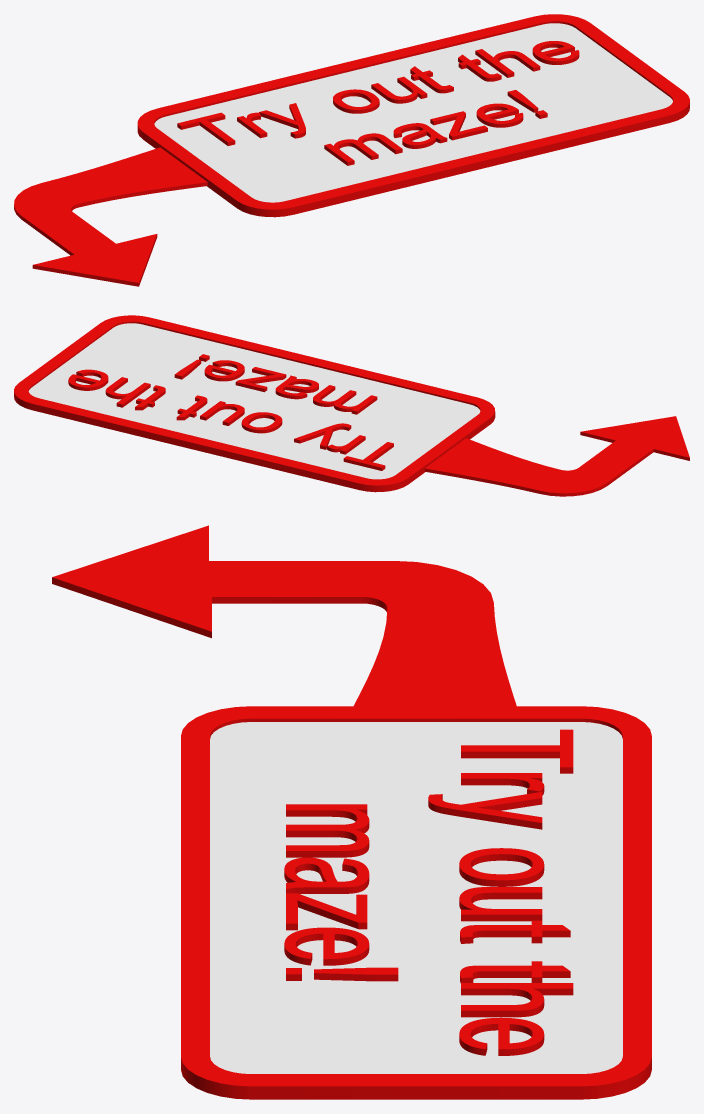
The model's file is Maze Sign.fbx.
3 renders of one model, top to bottom at view 1: azimuth 30°, elevation 25°; view 2: azimuth 150°, elevation 25°; view 3: azimuth 270°, elevation 25°, orthographic. The views are drawn at different scales.
Visible parts, largest first — view 1: Rectangle001, SignEdge, Line004, Text001; view 2: Rectangle001, SignEdge, Line004, Text001; view 3: Rectangle001, SignEdge, Line004, Text001.
Boxes of the visible parts, left/top/right/bottom form: Rectangle001: left=154, top=23, right=672, bottom=202; SignEdge: left=137, top=14, right=689, bottom=217; Line004: left=14, top=147, right=207, bottom=286; Text001: left=177, top=41, right=579, bottom=165; Rectangle001: left=28, top=323, right=480, bottom=479; SignEdge: left=14, top=315, right=495, bottom=492; Line004: left=424, top=416, right=689, bottom=496; Text001: left=68, top=354, right=393, bottom=470; Rectangle001: left=210, top=722, right=622, bottom=1073; SignEdge: left=181, top=706, right=651, bottom=1099; Line004: left=52, top=525, right=516, bottom=706; Text001: left=284, top=729, right=573, bottom=1055.
Size of the model in its own units: 91.82 by 1.3 by 41.25.
